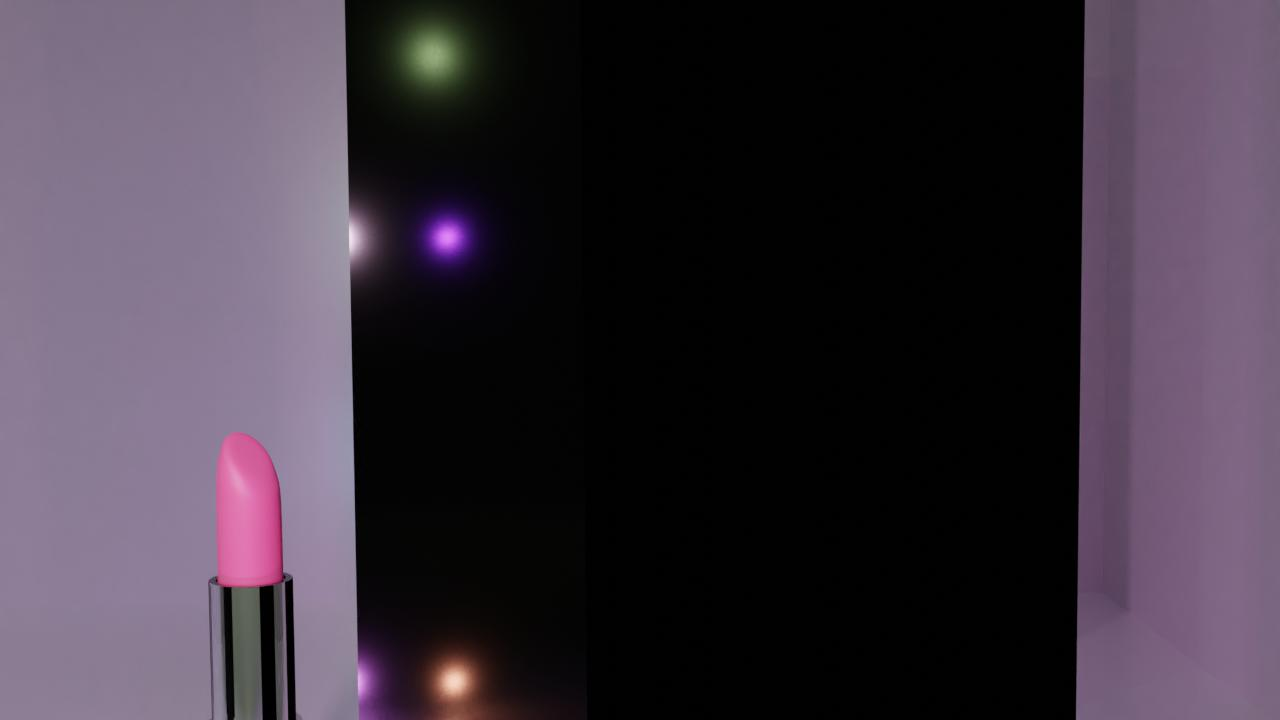CLASSIFIER_NAME: (204, 426, 309, 720)
